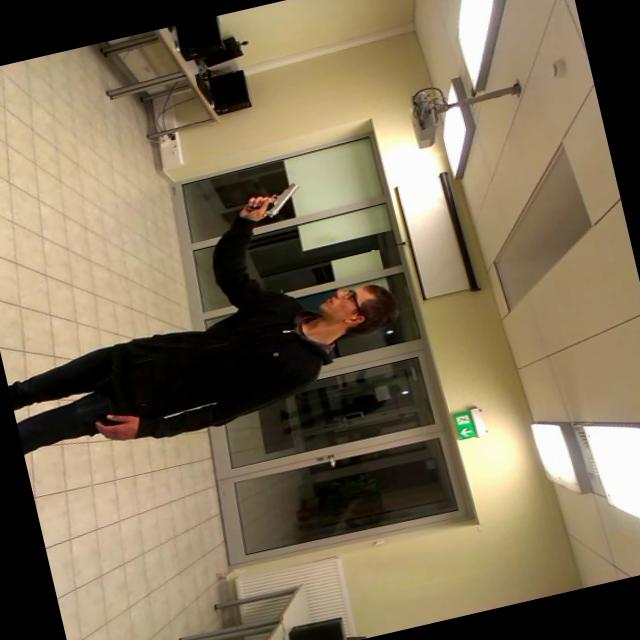handgun: (230, 166, 314, 226)
